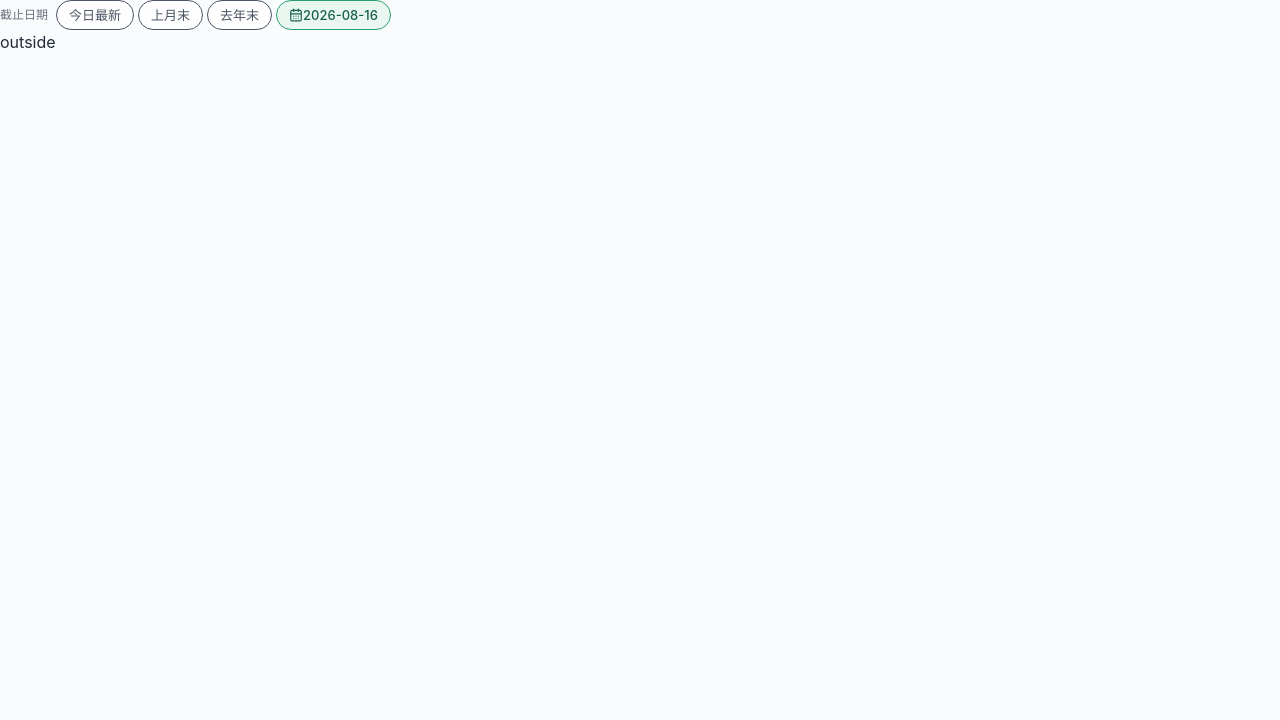
Test: AsOfToolbar › clicking outside closes the picker
The image size is (1280, 720).
Step 1. Click the button named "自定义日期" → (334, 15), box [276, 0, 391, 30]
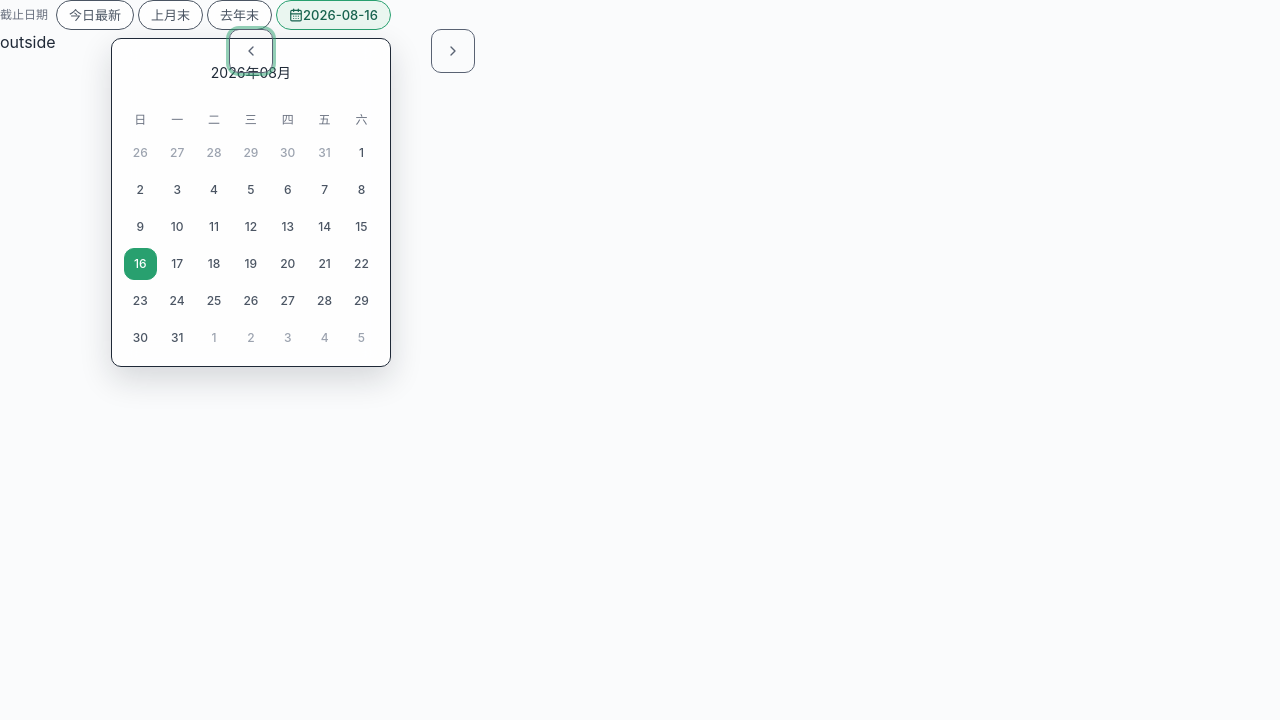
Expected: the dialog named "选择日期" is shown, [111, 38, 391, 367]
Step 2. Press the mouse on the text with test id "outside" → (28, 42), box [0, 32, 56, 52]
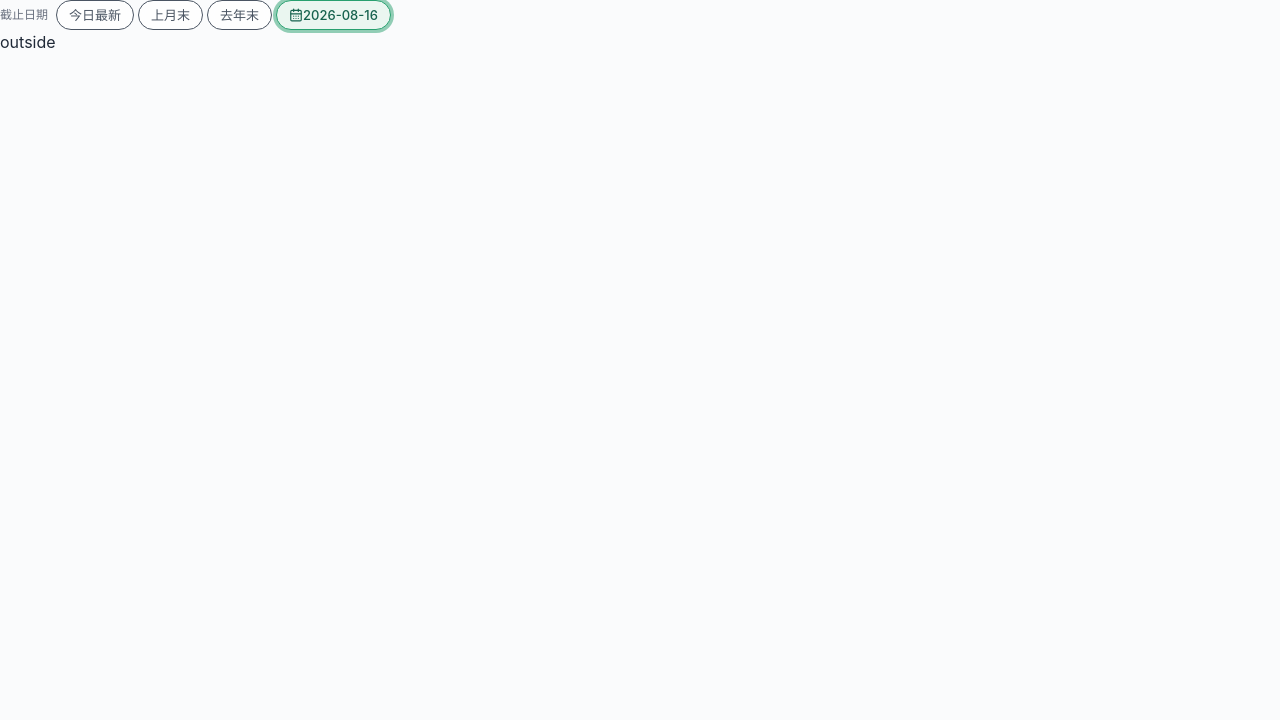
Expected: the dialog "选择日期" is gone
